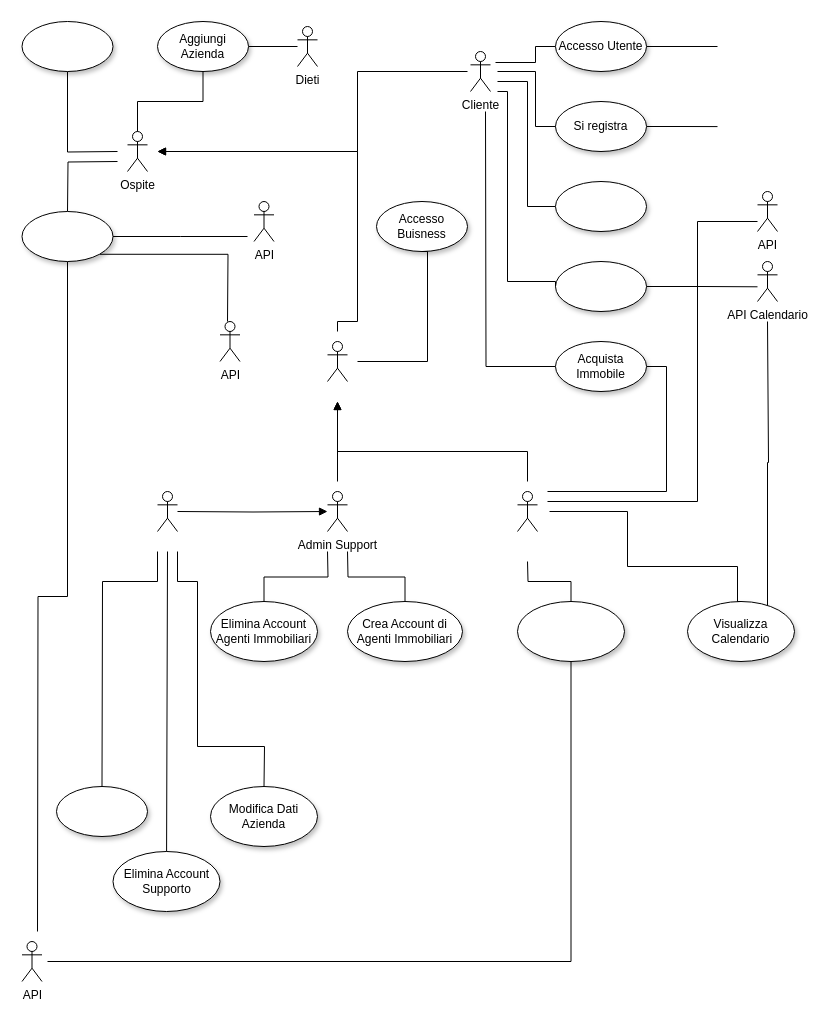
Some shapes in this 825 by 1020 pixel diagram are drawn without their labels. Here are the shapes that lost their labels. From the top down, the centre of each, then its label:
At point (68, 47): "Modifica Credenziali".
At point (601, 207): "Visualizza Attività".
At point (68, 237): "Cerca Immobile".
At point (601, 287): "Richiede visite".
At point (337, 361): "Amministrazione".
At point (167, 511): "Admin".
At point (527, 511): "Agente Immobiliare".
At point (571, 632): "Aggiungi Immobile".
At point (103, 813): "Crea Account Supporto".
